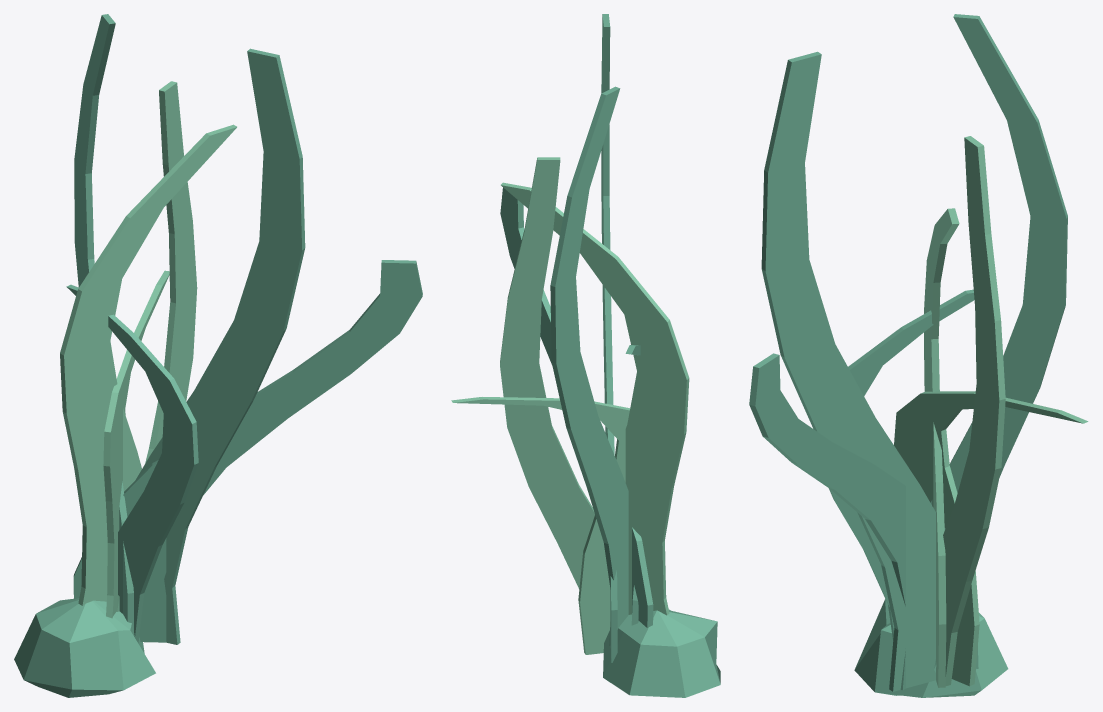
The model's file is ASTX_VEG_SEAWEED_A.glb.
The picture shows the model from 3 angles, left to right: view 1: azimuth 30°, elevation 25°; view 2: azimuth 150°, elevation 25°; view 3: azimuth 270°, elevation 25°; orthographic projection. The views are drawn at different scales.
Parts seen in each view (by area): view 1: ASTX_VEG_SEAWEED_A_rb01, ASTX_VEG_SEAWEED_A_rb00, ASTX_VEG_SEAWEED_A_rb04, ASTX_VEG_SEAWEED_A_mound, ASTX_VEG_SEAWEED_A_rb05, ASTX_VEG_SEAWEED_A_rb03, ASTX_VEG_SEAWEED_A_rb02, ASTX_VEG_SEAWEED_A_rb06; view 2: ASTX_VEG_SEAWEED_A_rb00, ASTX_VEG_SEAWEED_A_rb03, ASTX_VEG_SEAWEED_A_rb02, ASTX_VEG_SEAWEED_A_mound, ASTX_VEG_SEAWEED_A_rb06, ASTX_VEG_SEAWEED_A_rb01, ASTX_VEG_SEAWEED_A_rb04; view 3: ASTX_VEG_SEAWEED_A_rb01, ASTX_VEG_SEAWEED_A_rb02, ASTX_VEG_SEAWEED_A_rb03, ASTX_VEG_SEAWEED_A_rb04, ASTX_VEG_SEAWEED_A_rb06, ASTX_VEG_SEAWEED_A_rb00, ASTX_VEG_SEAWEED_A_mound, ASTX_VEG_SEAWEED_A_rb05.
Boxes of the visible parts, x1=… form: ASTX_VEG_SEAWEED_A_rb01: x1=136, y1=48, x2=305, y2=644; ASTX_VEG_SEAWEED_A_rb00: x1=60, y1=124, x2=236, y2=605; ASTX_VEG_SEAWEED_A_rb04: x1=73, y1=260, x2=422, y2=642; ASTX_VEG_SEAWEED_A_mound: x1=14, y1=598, x2=155, y2=697; ASTX_VEG_SEAWEED_A_rb05: x1=66, y1=284, x2=198, y2=643; ASTX_VEG_SEAWEED_A_rb03: x1=116, y1=81, x2=197, y2=611; ASTX_VEG_SEAWEED_A_rb02: x1=74, y1=14, x2=133, y2=631; ASTX_VEG_SEAWEED_A_rb06: x1=103, y1=270, x2=169, y2=618; ASTX_VEG_SEAWEED_A_rb00: x1=501, y1=182, x2=689, y2=615; ASTX_VEG_SEAWEED_A_rb03: x1=500, y1=157, x2=594, y2=588; ASTX_VEG_SEAWEED_A_rb02: x1=550, y1=86, x2=628, y2=645; ASTX_VEG_SEAWEED_A_mound: x1=603, y1=609, x2=720, y2=697; ASTX_VEG_SEAWEED_A_rb06: x1=451, y1=397, x2=630, y2=654; ASTX_VEG_SEAWEED_A_rb01: x1=601, y1=14, x2=617, y2=662; ASTX_VEG_SEAWEED_A_rb04: x1=500, y1=187, x2=653, y2=627; ASTX_VEG_SEAWEED_A_rb01: x1=761, y1=51, x2=978, y2=691; ASTX_VEG_SEAWEED_A_rb02: x1=930, y1=14, x2=1067, y2=505; ASTX_VEG_SEAWEED_A_rb03: x1=943, y1=136, x2=1005, y2=685; ASTX_VEG_SEAWEED_A_rb04: x1=749, y1=353, x2=905, y2=690; ASTX_VEG_SEAWEED_A_rb06: x1=894, y1=391, x2=1088, y2=686; ASTX_VEG_SEAWEED_A_rb00: x1=924, y1=208, x2=959, y2=687; ASTX_VEG_SEAWEED_A_mound: x1=854, y1=599, x2=1008, y2=697; ASTX_VEG_SEAWEED_A_rb05: x1=828, y1=289, x2=974, y2=641.
Size of the model in its own units: 0.8081 by 1.54 by 0.6933.
